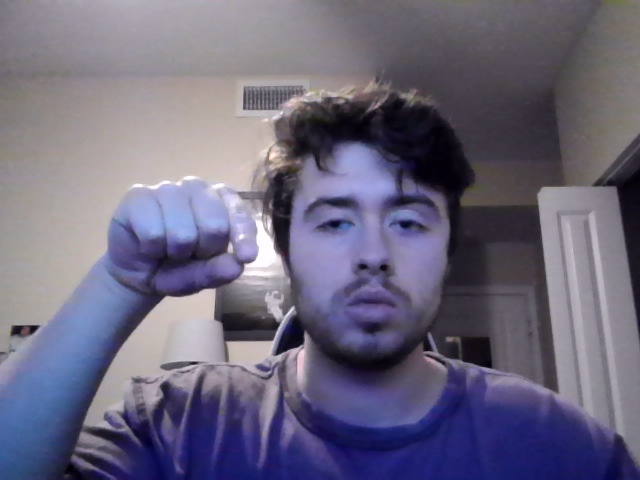q: (105, 174, 260, 312)
